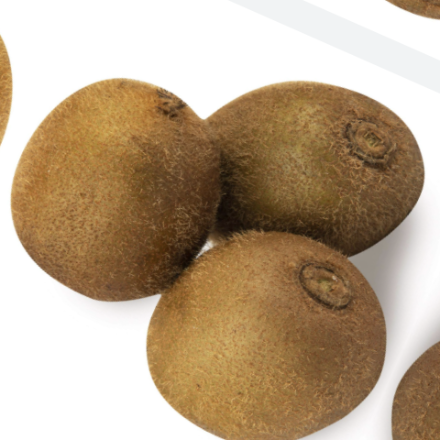kiwi: (97, 165, 435, 440), (0, 39, 262, 354), (158, 48, 440, 331)
